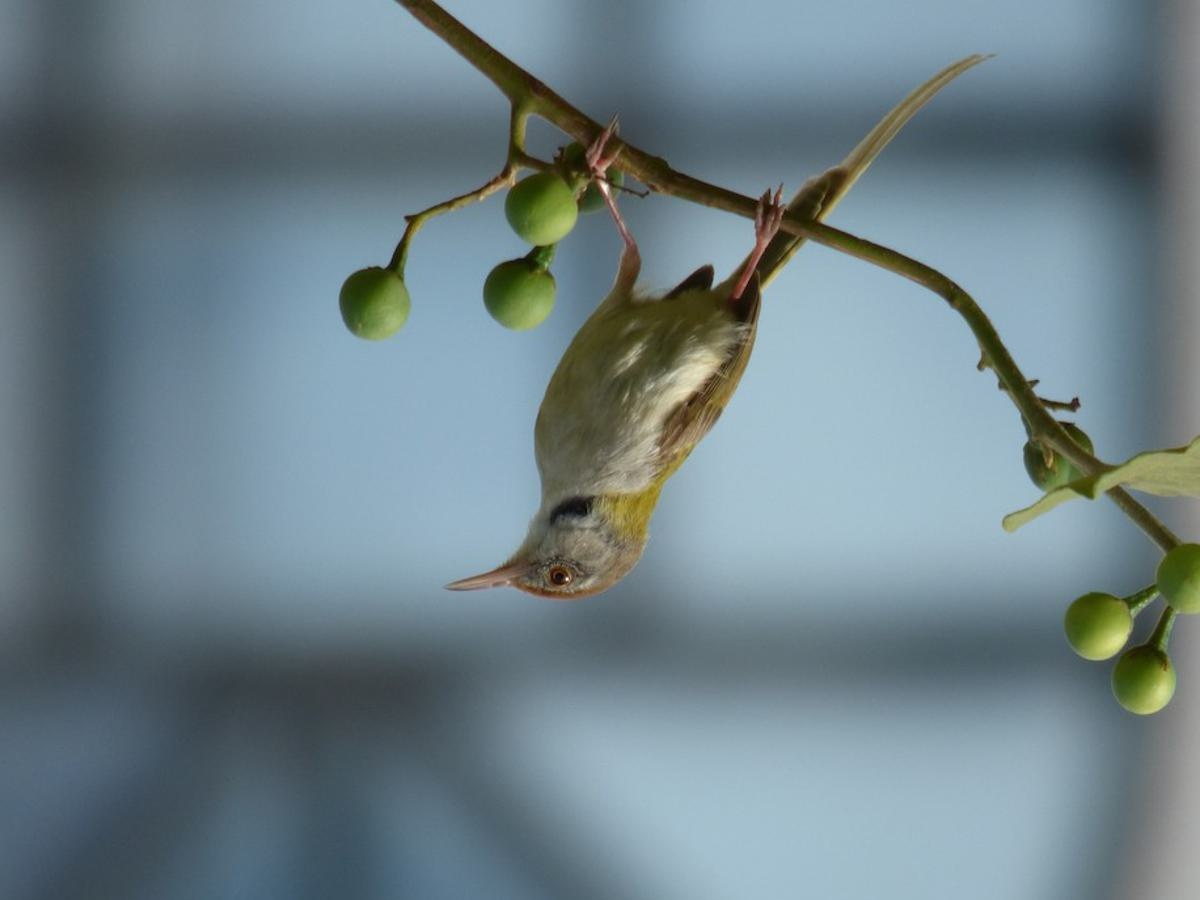tailorbird: (440, 98, 930, 634)
